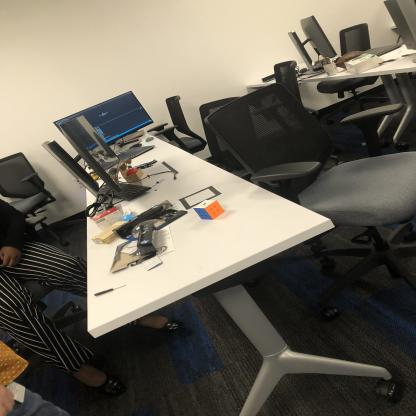SolvedCube: (191, 196, 228, 222)
